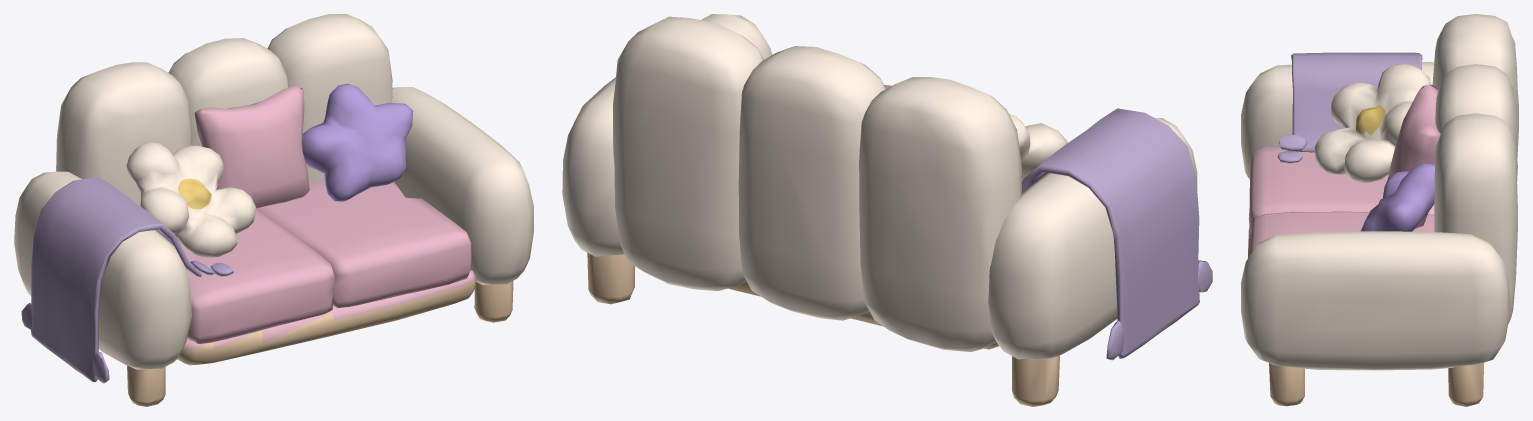
The model's file is petal-sofa-solid.glb.
The picture shows the model from 3 angles, left to right: view 1: azimuth 30°, elevation 25°; view 2: azimuth 150°, elevation 25°; view 3: azimuth 270°, elevation 25°; orthographic projection. The views are drawn at different scales.
Visible parts, largest first — view 1: petal-sofa; view 2: petal-sofa; view 3: petal-sofa.
Boxes of the visible parts, box(x1,y1,x2,y2) form: petal-sofa: box(14, 14, 533, 406); petal-sofa: box(562, 14, 1212, 406); petal-sofa: box(1241, 14, 1518, 406).
Bounding box in the file's own units: 1.9 × 1.05 × 1.07.
